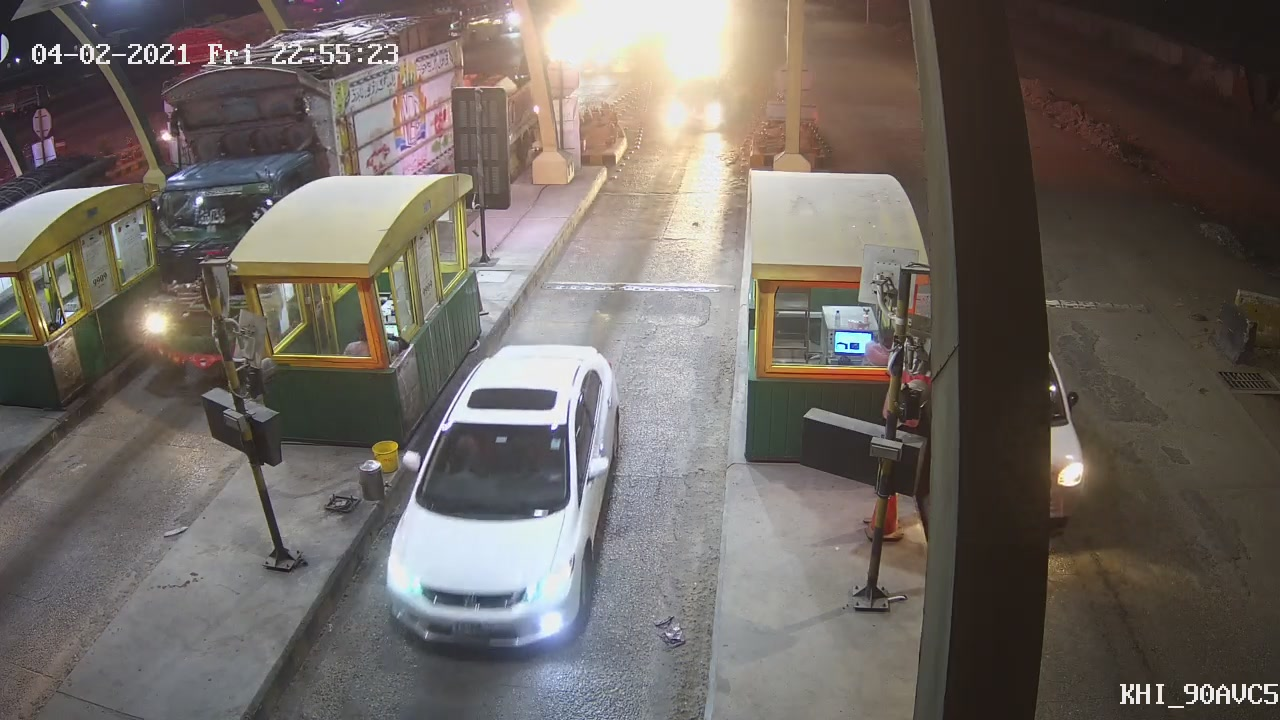F1: (384, 339, 621, 655)
